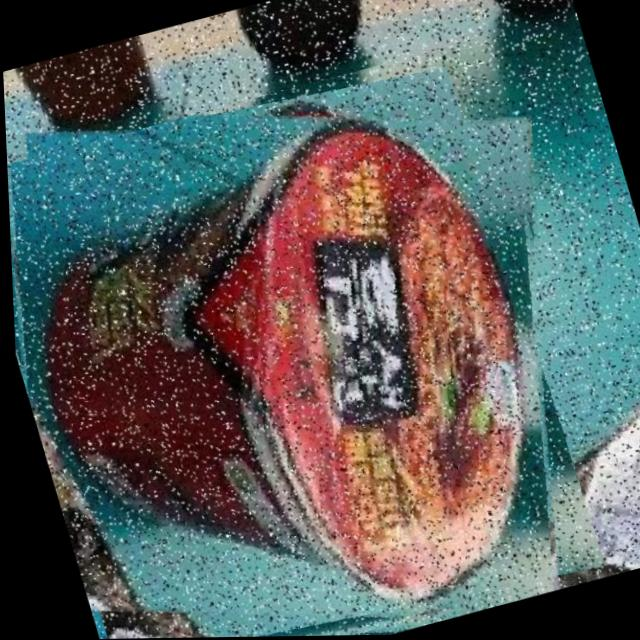Miscellaneous: (2, 36, 634, 640)
